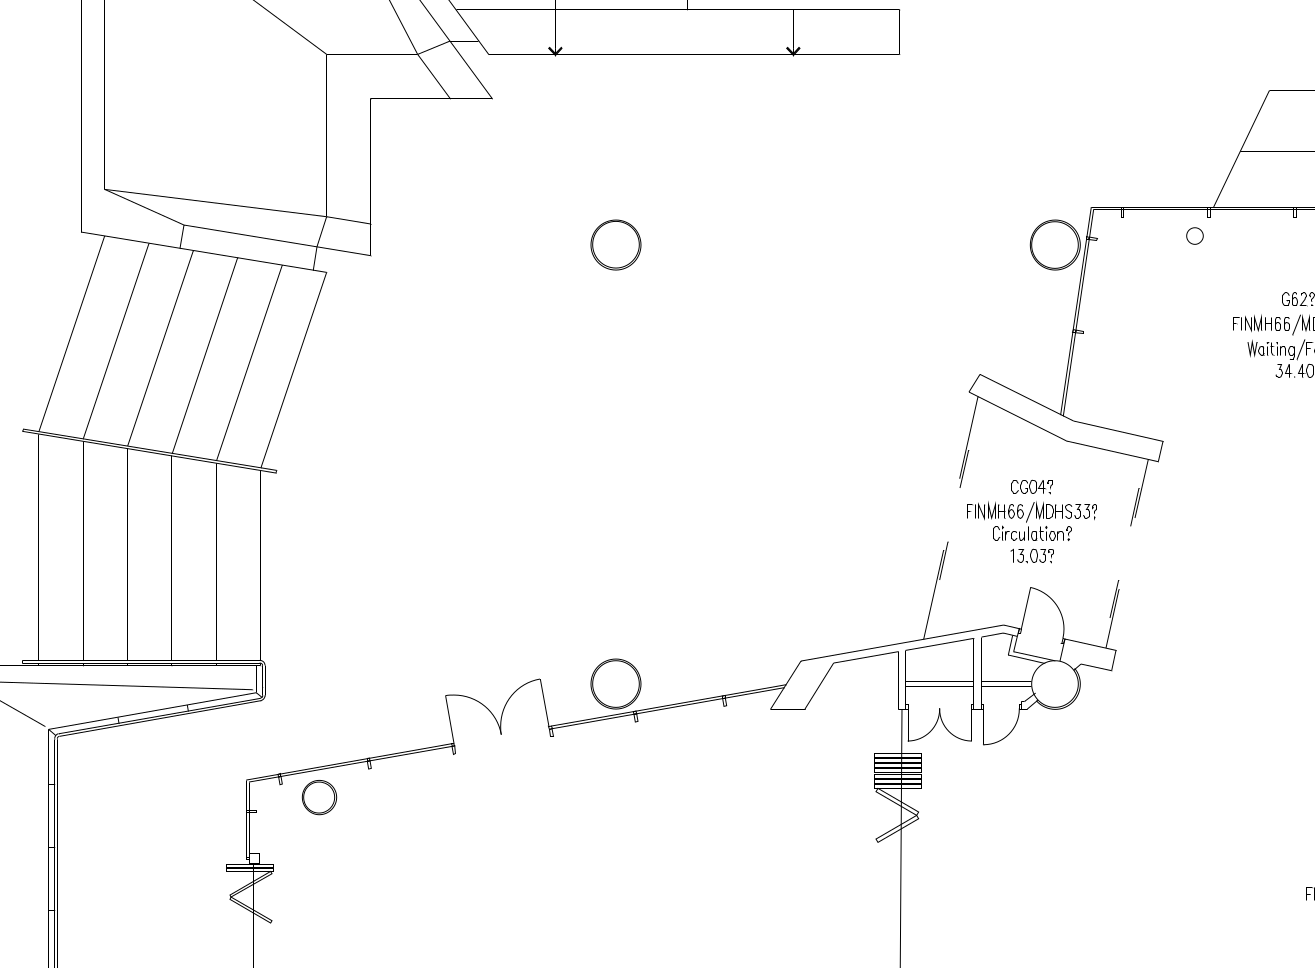door: (439, 679, 501, 751), (1015, 572, 1077, 643), (500, 675, 562, 746)
